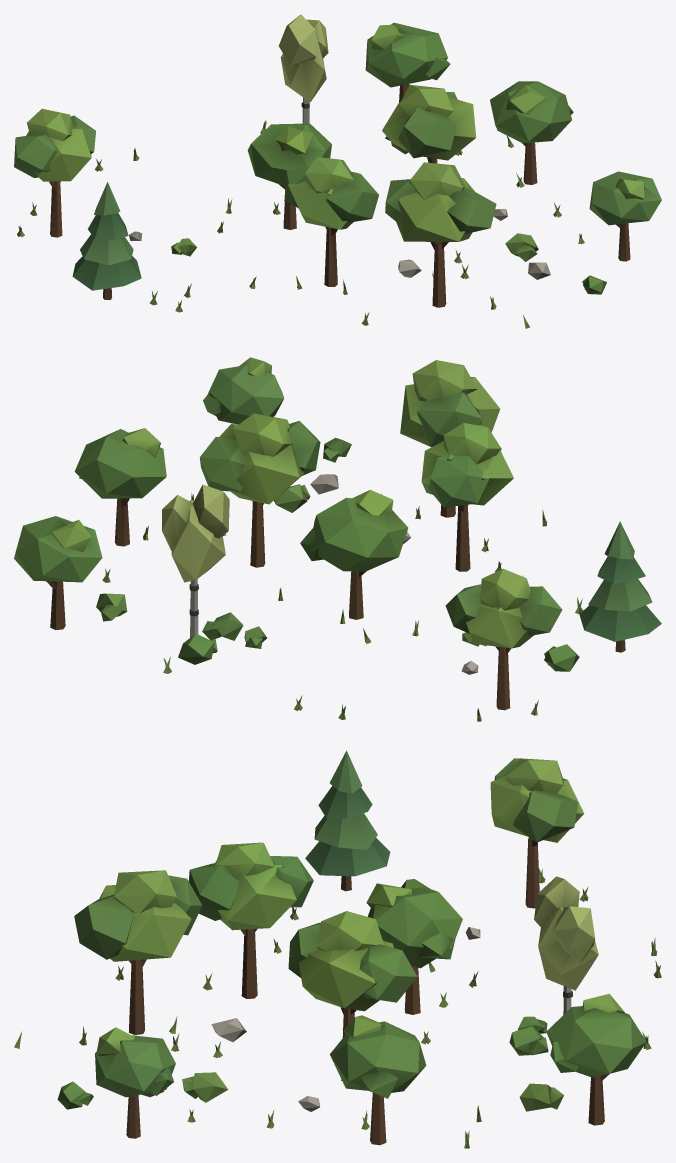
File: forest_sparse.glb
3 views of the same model, one above another, from view 1: azimuth 30°, elevation 25°; view 2: azimuth 150°, elevation 25°; view 3: azimuth 270°, elevation 25° (orthographic). The views are drawn at different scales.
Parts seen in each view (by area): view 1: forest_sparse; view 2: forest_sparse; view 3: forest_sparse.
Part boxes in pixels (box(x1,y1,x2,y2)): forest_sparse: box(14, 14, 661, 328); forest_sparse: box(14, 357, 661, 721); forest_sparse: box(14, 750, 661, 1148).
Bounding box in the file's own units: 15.93 × 4.55 × 14.85.
